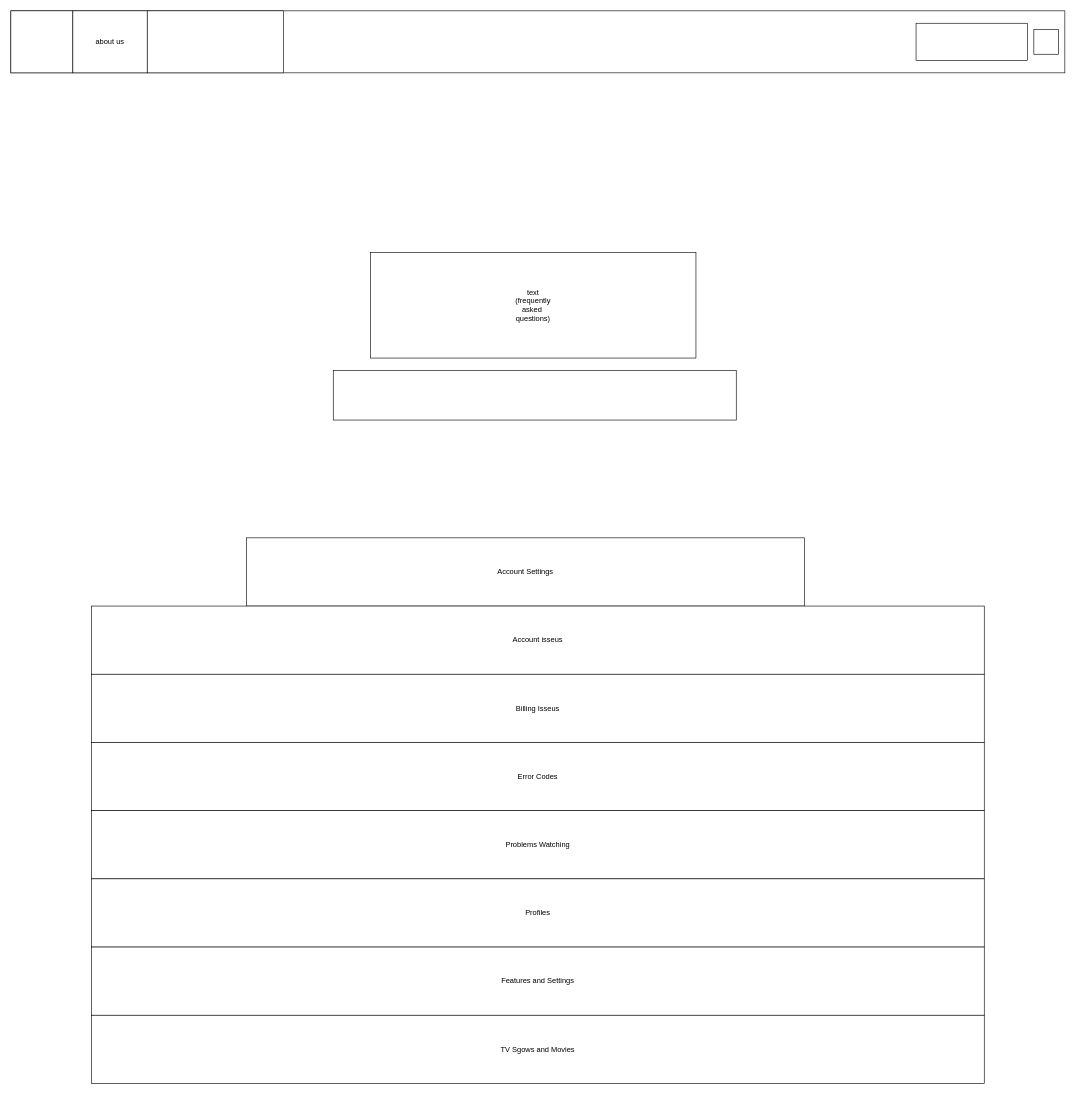
Image size: 1076x1094. Some labels were removed from this diagram. The centre of each missing label's shape, as x and y in pixels:
"Casting Studio and New Movies" belongs at (x=215, y=41).
"description" belongs at (x=534, y=395).
"logo" belongs at (x=41, y=41).
"night toggle" belongs at (x=1046, y=41).
"search bar" belongs at (x=971, y=41).
